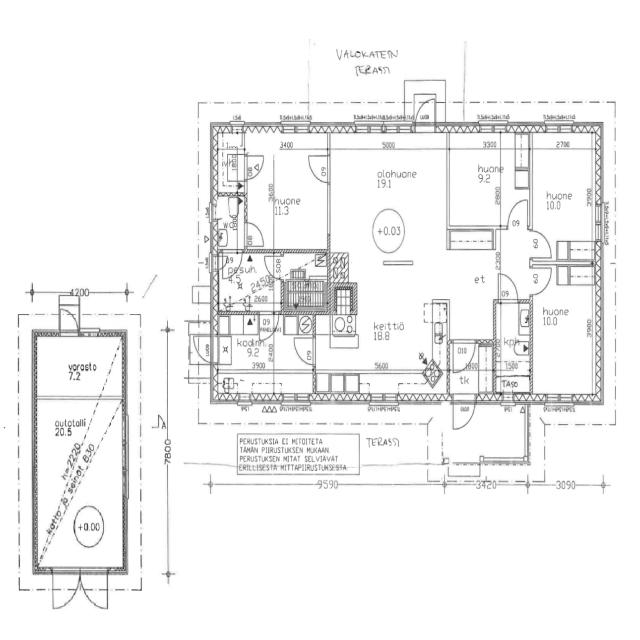door: (80, 570, 110, 612), (51, 568, 80, 611), (451, 394, 477, 433), (450, 338, 478, 373), (413, 96, 438, 131), (505, 196, 530, 230), (529, 264, 554, 298), (292, 333, 316, 368), (306, 150, 330, 184), (528, 228, 553, 260), (191, 333, 214, 365), (497, 270, 519, 303), (58, 304, 80, 336), (243, 152, 266, 182), (244, 219, 266, 248), (219, 251, 241, 276), (260, 312, 281, 336), (262, 254, 279, 278), (214, 253, 229, 272)
window: (352, 120, 386, 136), (546, 391, 577, 408), (280, 120, 312, 135), (544, 120, 575, 135), (382, 120, 414, 134), (478, 120, 508, 134), (282, 392, 311, 405), (373, 392, 399, 405), (79, 327, 101, 339), (121, 469, 130, 498), (236, 394, 254, 406), (229, 120, 245, 132)
zone: (245, 134, 330, 252), (531, 265, 597, 402), (529, 130, 597, 258), (445, 130, 528, 229), (34, 335, 124, 399), (213, 313, 275, 381), (215, 250, 279, 314), (279, 251, 329, 308), (494, 300, 532, 364), (213, 126, 246, 196), (212, 194, 244, 253), (493, 351, 531, 398)
